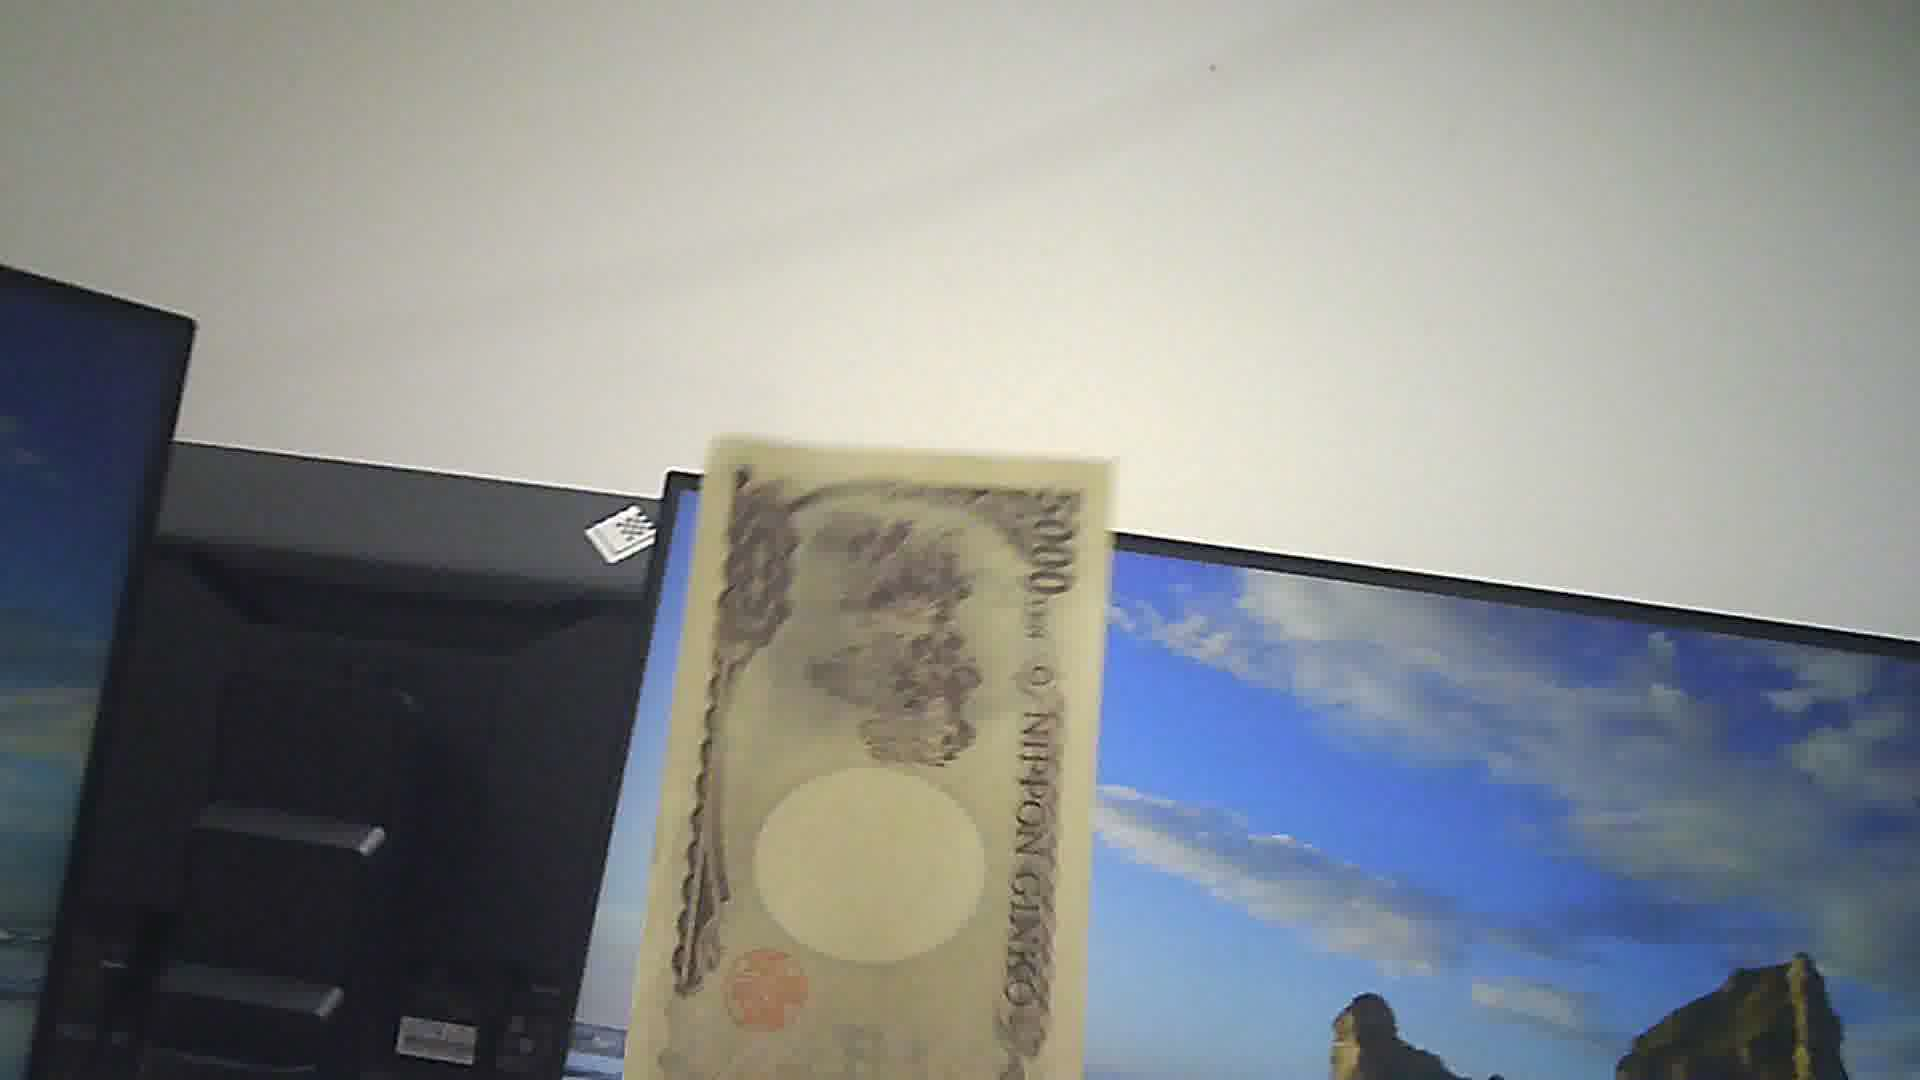5,000 Yen: (665, 436, 1104, 1079)
